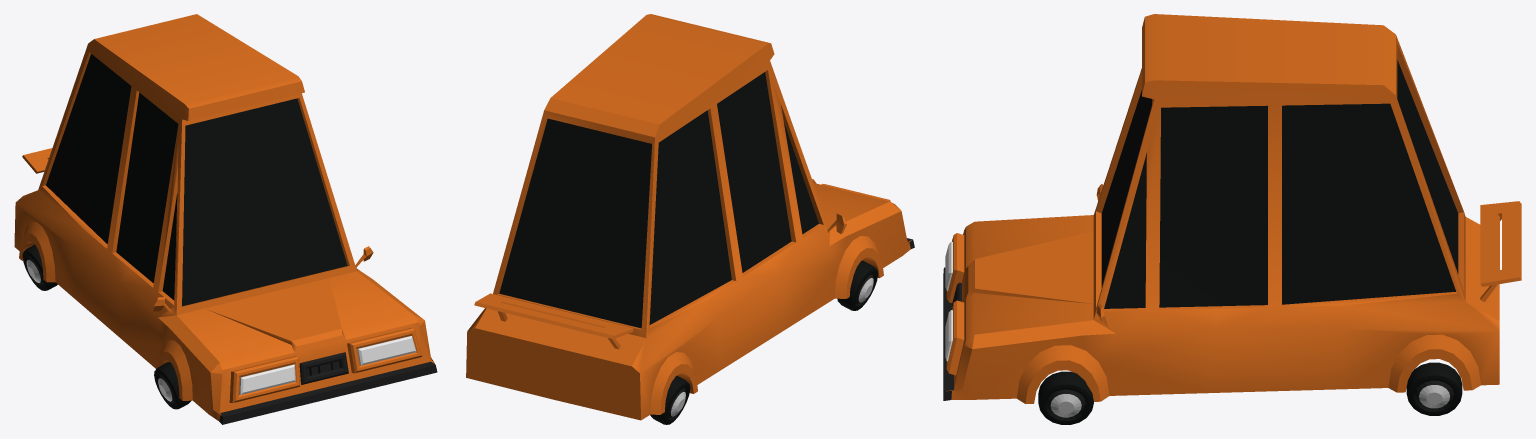
The model's file is car.FBX.
3 renders of one model, left to right at view 1: azimuth 30°, elevation 25°; view 2: azimuth 150°, elevation 25°; view 3: azimuth 270°, elevation 25°, orthographic. The views are drawn at different scales.
Visible parts, largest first — view 1: Box001, Cylinder031, Cylinder032; view 2: Box001, Cylinder031, Cylinder032; view 3: Box001, Cylinder029, Cylinder030.
Part boxes in pixels (bbox=[...]): Box001: bbox=[14, 14, 437, 424]; Cylinder031: bbox=[154, 362, 191, 409]; Cylinder032: bbox=[22, 244, 57, 290]; Box001: bbox=[466, 14, 914, 420]; Cylinder031: bbox=[837, 260, 877, 310]; Cylinder032: bbox=[650, 375, 690, 424]; Box001: bbox=[943, 14, 1521, 403]; Cylinder029: bbox=[1406, 362, 1462, 415]; Cylinder030: bbox=[1038, 371, 1093, 424].
Size of the model in its own units: 98.1 by 106 by 176.
